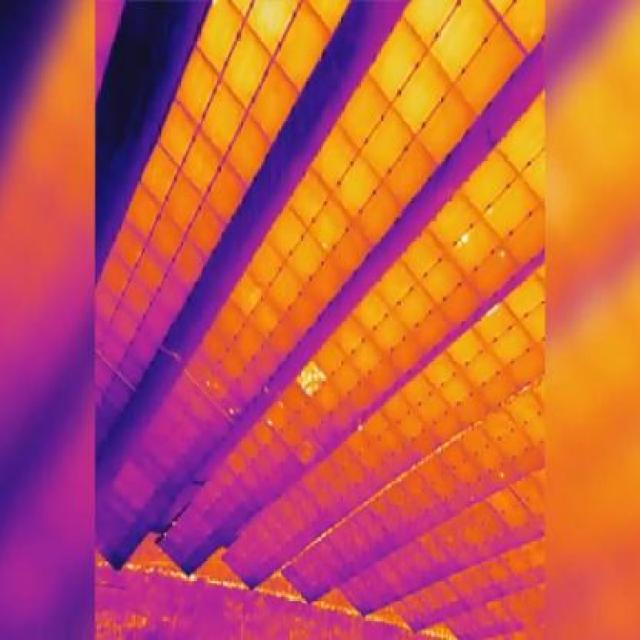hotspot: (318, 368, 327, 382), (461, 232, 470, 243), (498, 252, 507, 262), (498, 470, 504, 482), (313, 377, 318, 389), (359, 422, 363, 432), (308, 373, 312, 382), (280, 398, 283, 410), (322, 241, 326, 248), (308, 387, 310, 396), (270, 420, 272, 426), (490, 208, 492, 212)
